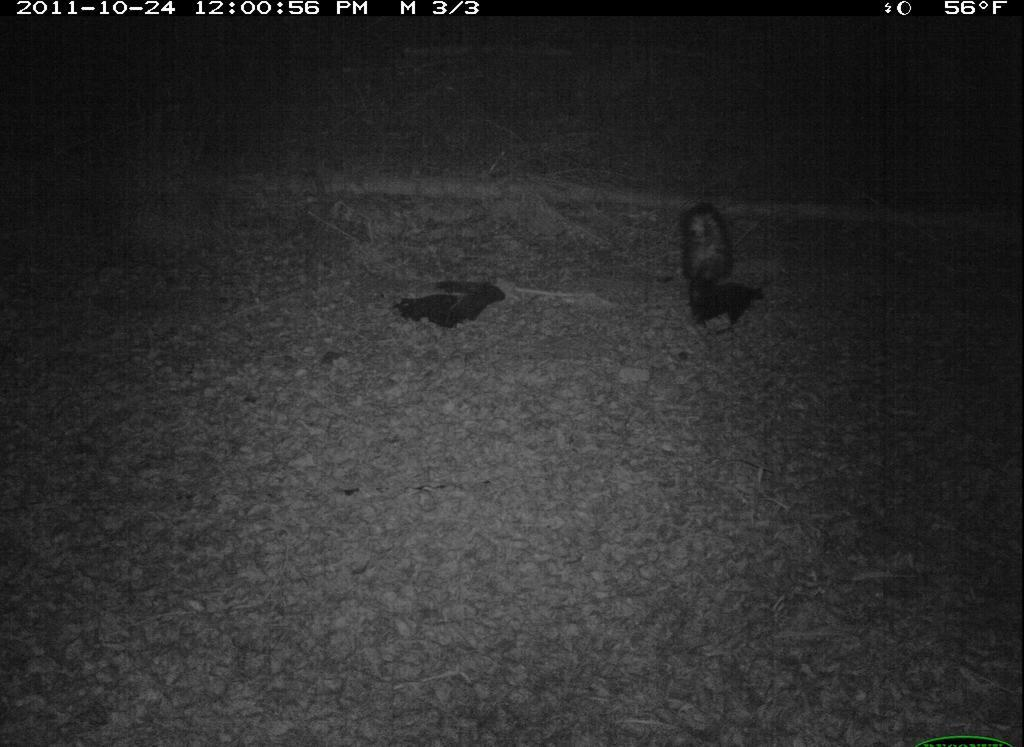skunk: (667, 200, 783, 337)
